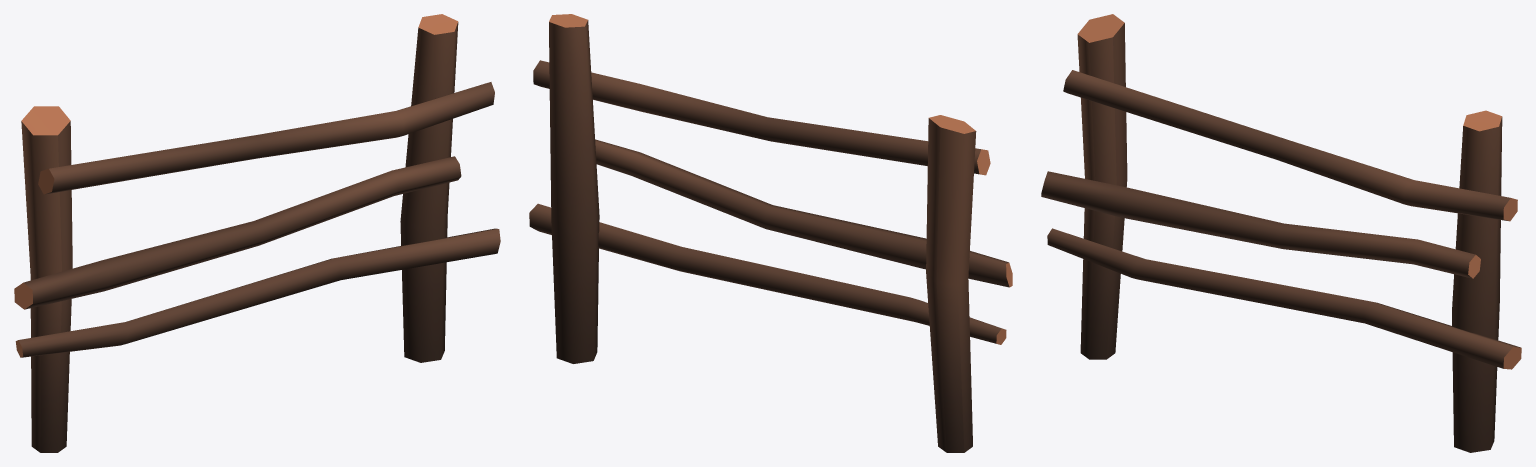
File: Fence_2C.fbx
3 renders of one model, left to right at view 1: azimuth 30°, elevation 25°; view 2: azimuth 150°, elevation 25°; view 3: azimuth 330°, elevation 25°, orthographic.
Parts seen in each view (by area): view 1: Fence_2C; view 2: Fence_2C; view 3: Fence_2C.
Boxes of the visible parts, x1,y1,x2,y2 form: Fence_2C: [14, 14, 500, 452]; Fence_2C: [529, 14, 1012, 452]; Fence_2C: [1041, 14, 1521, 452].
Size of the model in its own units: 199 by 131 by 27.91.
